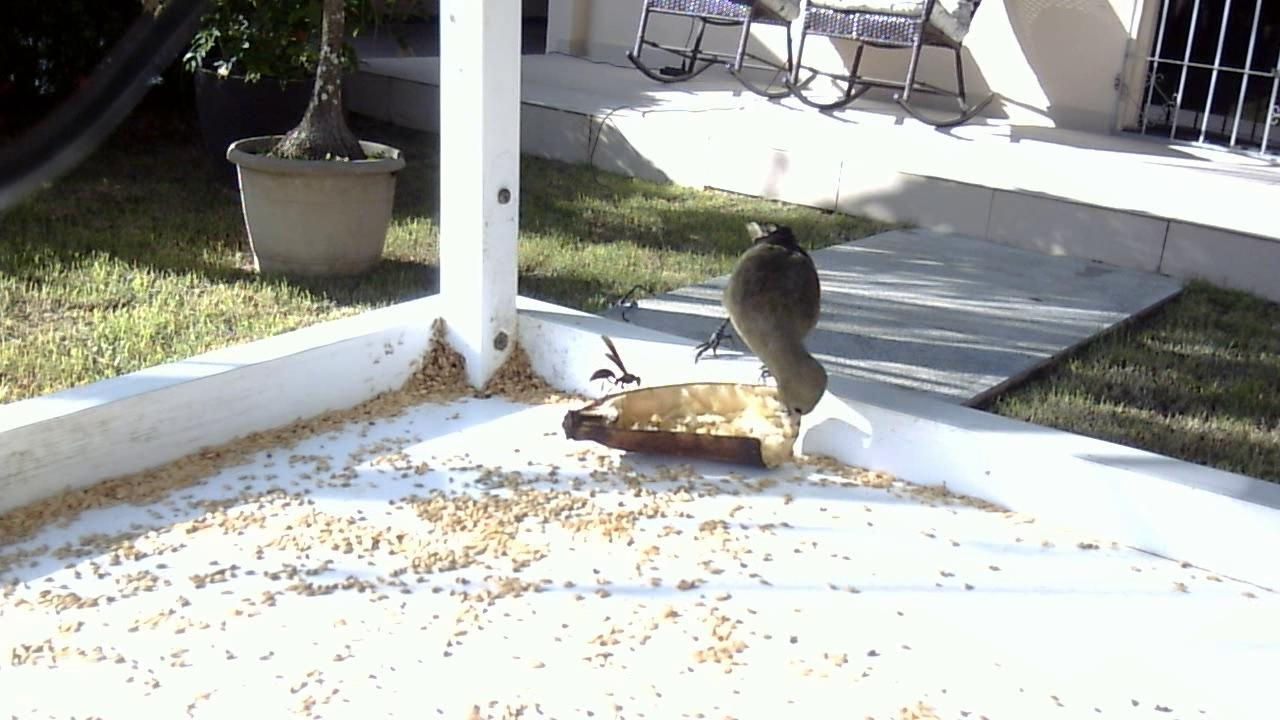sanhaco_do_coqueiro: (669, 206, 882, 447)
